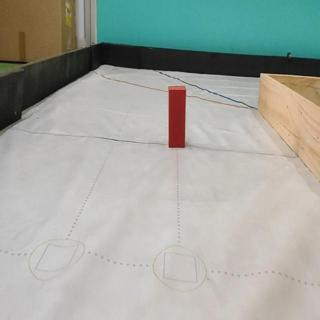redbox: (169, 85, 186, 147)
